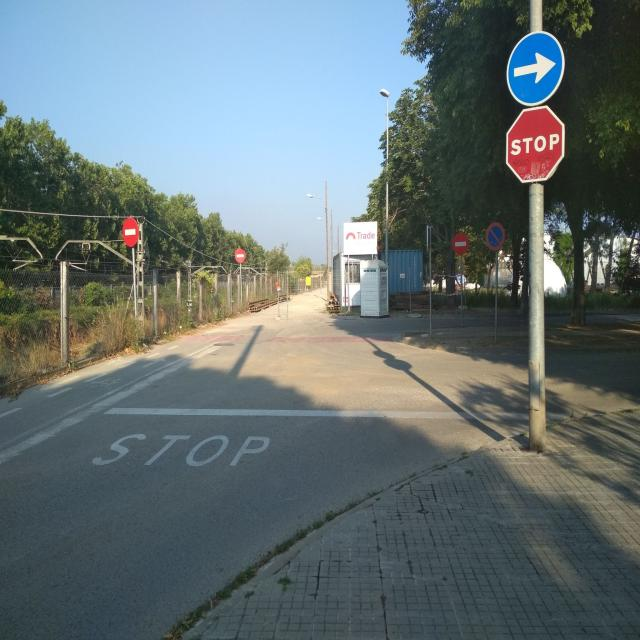forb_stopping: (484, 220, 506, 252)
